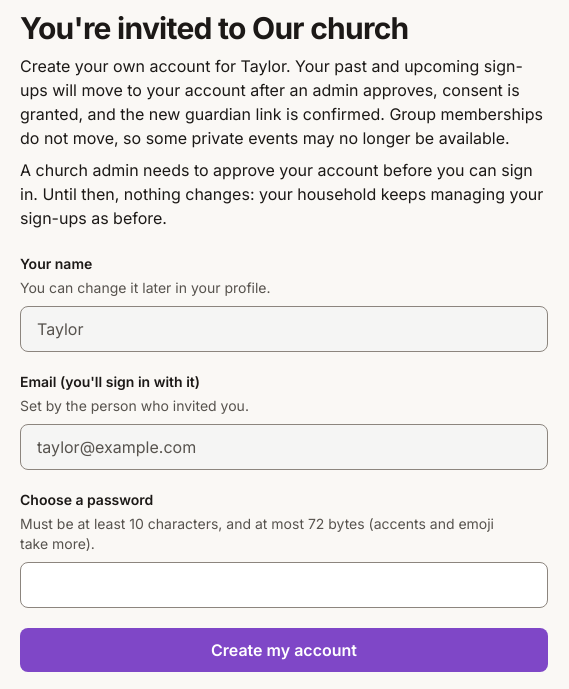
accepts a teen conversion into approval waiting without moving household sign-ups
The width and height of the screenshot is (569, 689).
Expected: the text "Your past and upcoming sign-ups will move" is shown, [20,56,523,100]
Type "password1234" into the password field labelled "Choose a password".
click(284, 585); type("password1234")  # box [20,562,548,608]
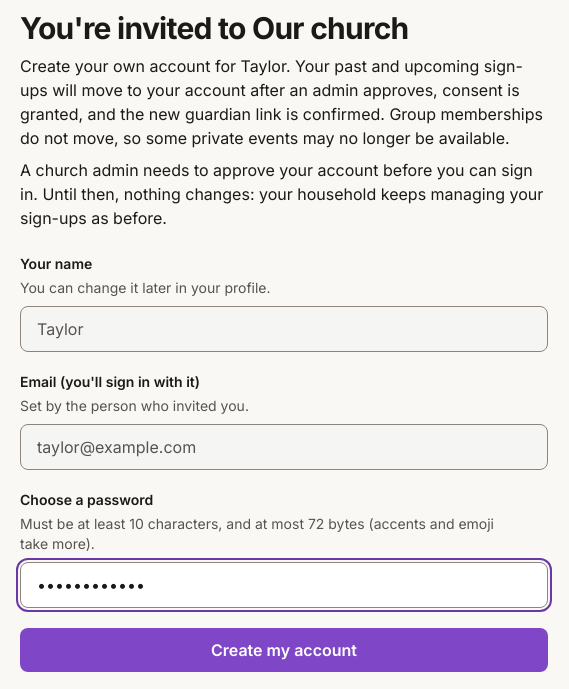
Click the button "Create my account".
click(284, 650)  # box [20,628,548,672]
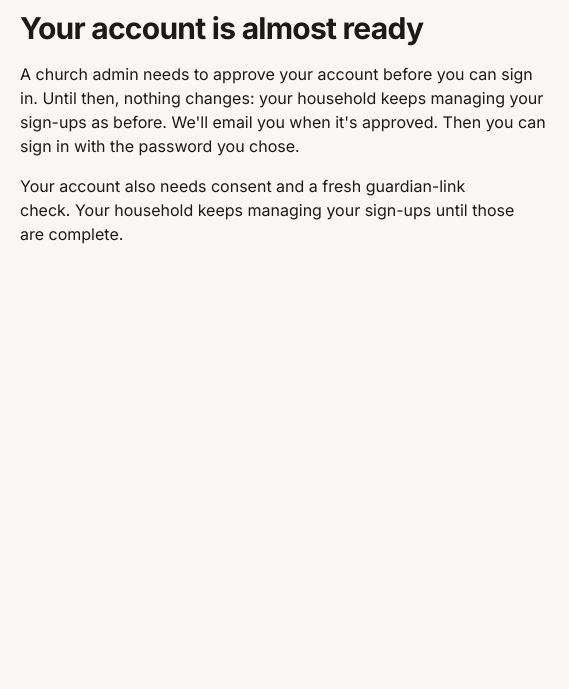
Expected: the text "Your account also needs consent and a fresh guardian-link check" is shown, [20,176,514,244]
